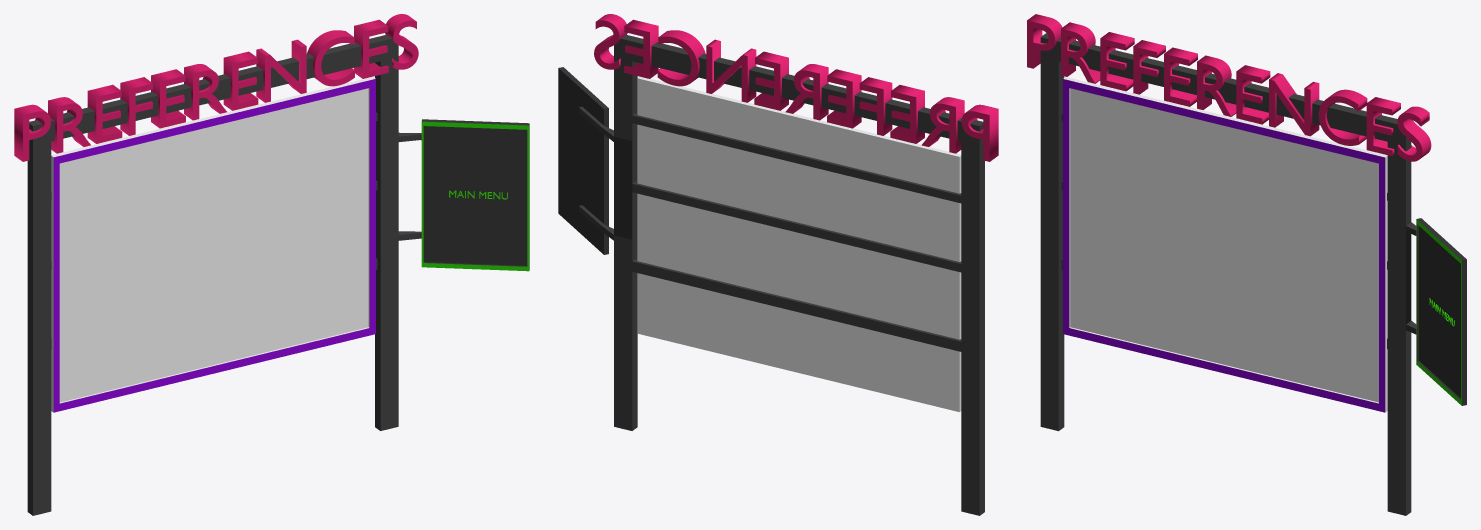
File: menu_preferences.glb
3 views of the same model, side by side, from view 1: azimuth 30°, elevation 25°; view 2: azimuth 150°, elevation 25°; view 3: azimuth 330°, elevation 25° (orthographic).
Parts seen in each view (by area): view 1: leaderboard_board, sign_body, main_menu_board, Text; view 2: leaderboard_board, sign_body, Text, main_menu_board; view 3: leaderboard_board, sign_body, Text, main_menu_board.
Boxes of the visible parts, box(x1,y1,x2,y2) form: leaderboard_board: box(51, 77, 375, 412); sign_body: box(27, 34, 421, 515); main_menu_board: box(421, 119, 529, 271); Text: box(14, 14, 418, 161); leaderboard_board: box(637, 76, 961, 412); sign_body: box(579, 34, 984, 515); Text: box(594, 14, 998, 161); main_menu_board: box(558, 67, 608, 254); leaderboard_board: box(1063, 77, 1387, 412); sign_body: box(1040, 33, 1416, 515); Text: box(1027, 14, 1431, 161); main_menu_board: box(1416, 218, 1466, 405).
Size of the model in its own units: 49.87 by 40.81 by 8.1.
